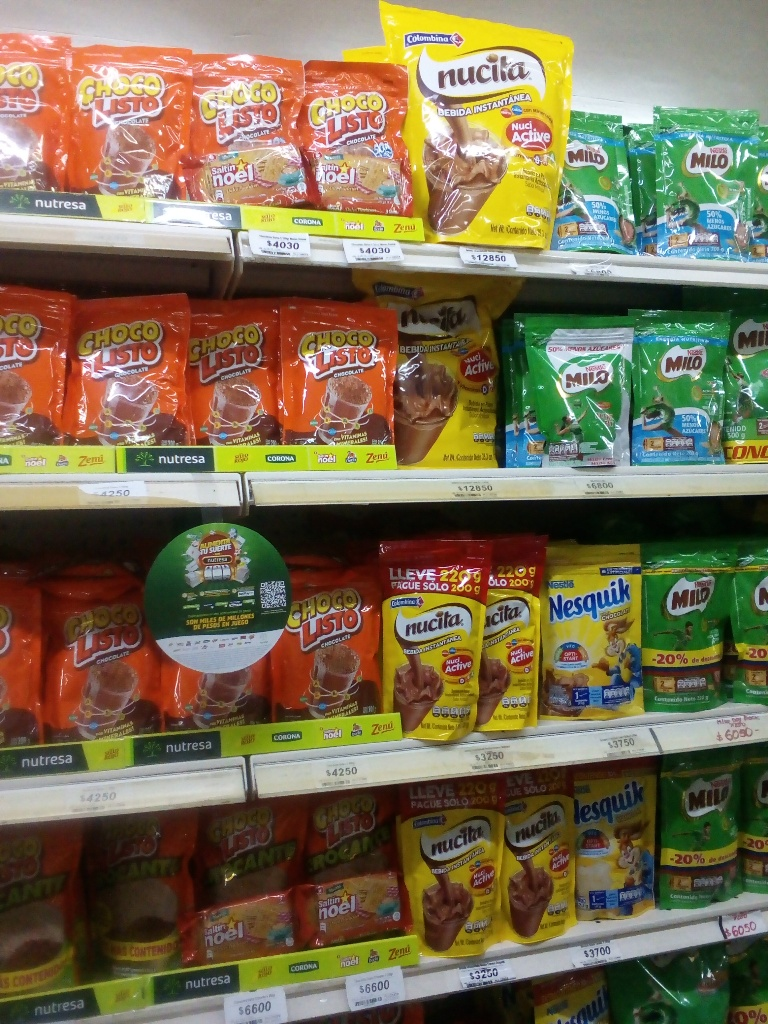COL0170102DYP25000: (85, 818, 199, 975)
COL0170103DYP20000: (303, 57, 409, 159)
COL0170203DYP25000: (646, 544, 731, 718)
COL0170205DYP20000: (628, 307, 730, 465)
COL0170303DYP20000: (544, 541, 644, 717)
COL0170306DYP20000: (577, 773, 661, 923)
